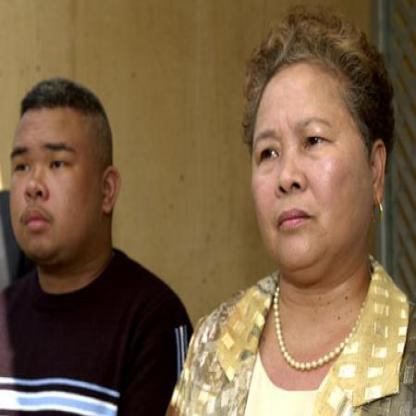face: (244, 36, 374, 280), (6, 83, 107, 270)
